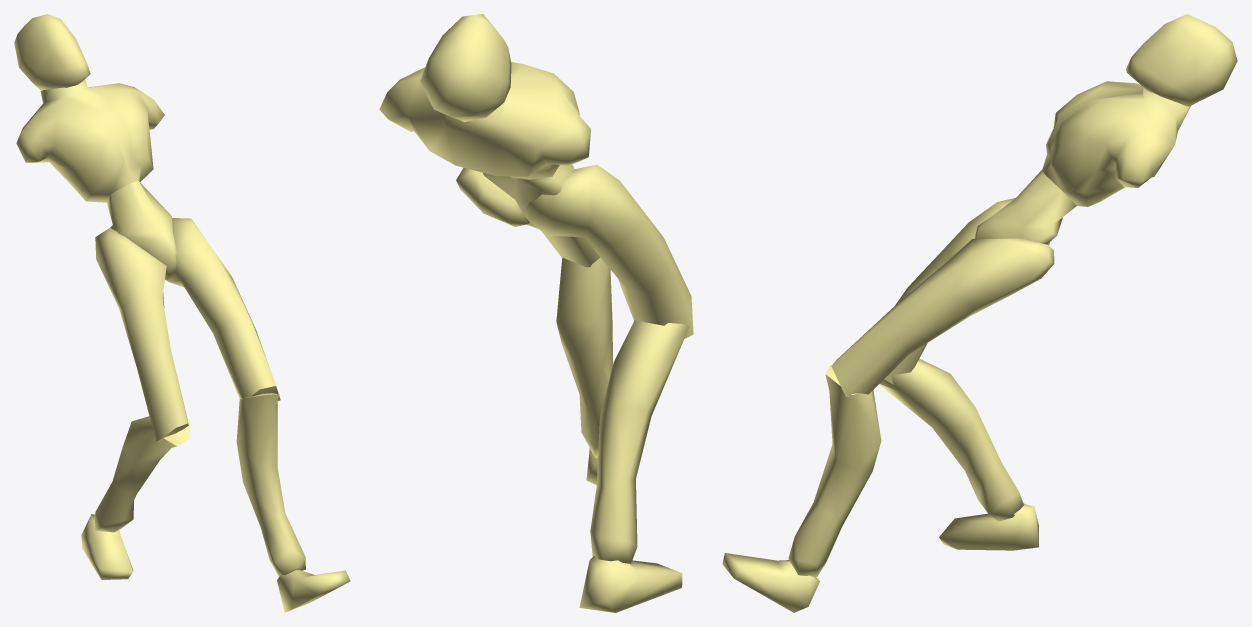
Rendered from filth20.obj.
3 renders of one model, left to right at view 1: azimuth 30°, elevation 25°; view 2: azimuth 150°, elevation 25°; view 3: azimuth 270°, elevation 25°, orthographic. The views are drawn at different scales.
Visible parts, largest first — view 1: Melee_Husk; view 2: Melee_Husk; view 3: Melee_Husk.
Boxes of the visible parts, x1=… form: Melee_Husk: x1=14, y1=14, x2=350, y2=612; Melee_Husk: x1=379, y1=14, x2=693, y2=612; Melee_Husk: x1=722, y1=14, x2=1237, y2=612.
Size of the model in its own units: 22.88 by 67.36 by 56.52.
